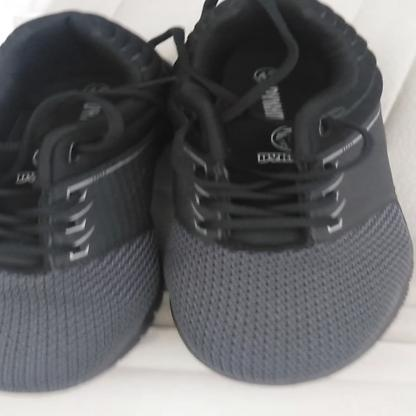safety-shoe: (0, 0, 414, 392)
